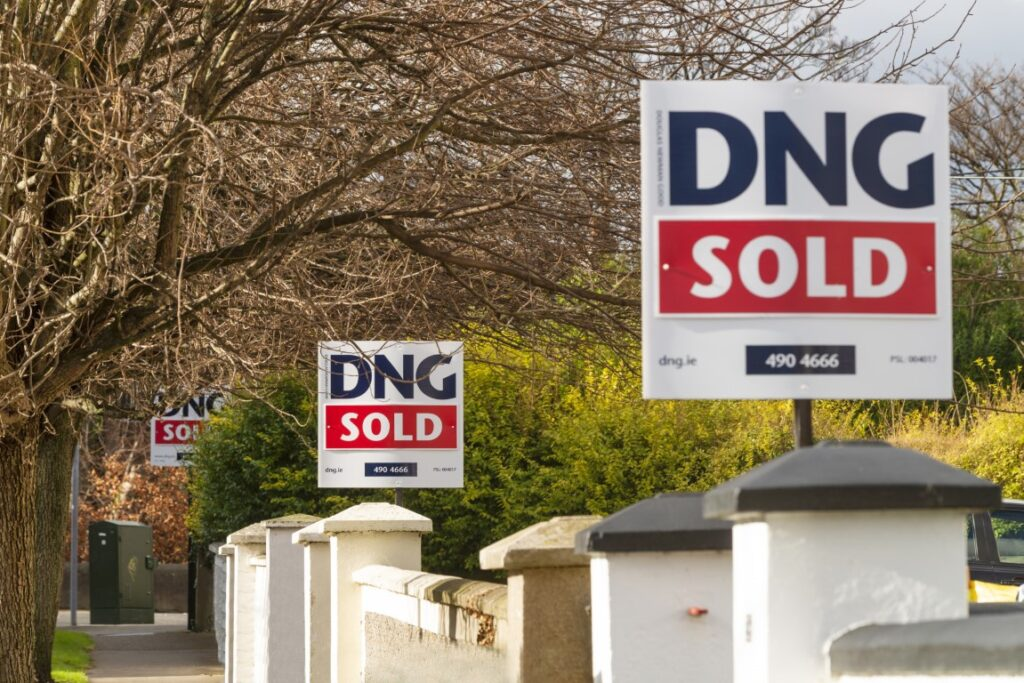property sign: (631, 69, 962, 432), (305, 326, 481, 508), (129, 369, 252, 485)
